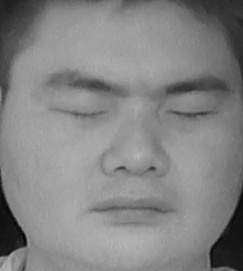blink: (54, 97, 111, 131), (168, 97, 222, 129)
mouth: (85, 183, 175, 228)
